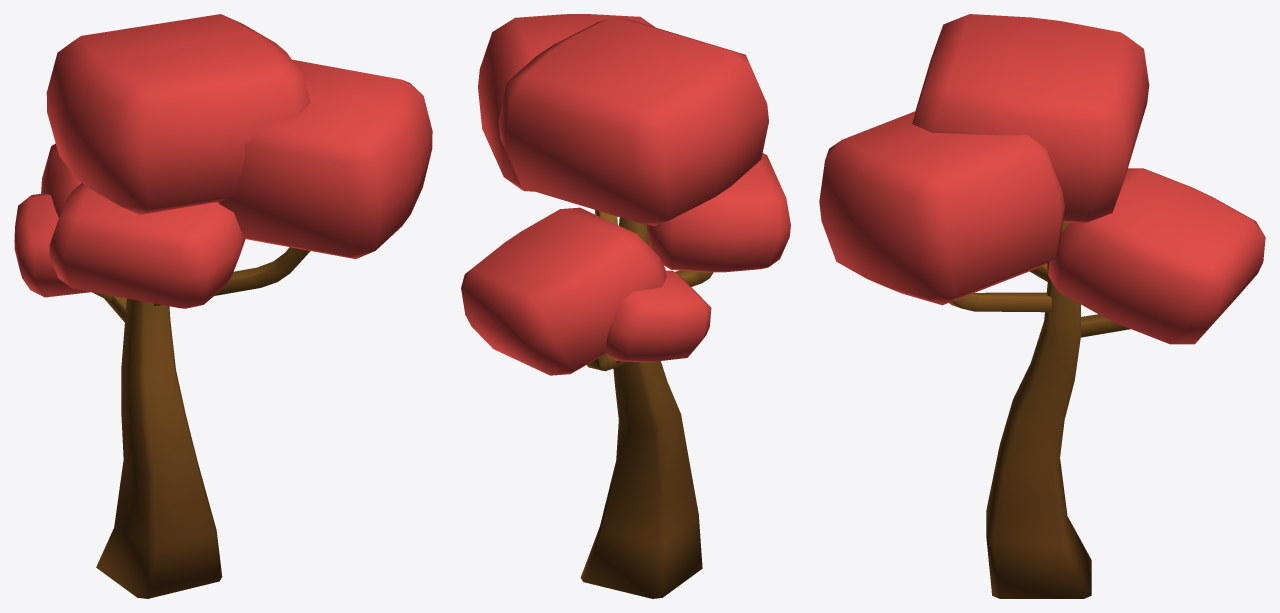
The model's file is Tree_1_2.glb.
The picture shows the model from 3 angles, left to right: view 1: azimuth 30°, elevation 25°; view 2: azimuth 150°, elevation 25°; view 3: azimuth 270°, elevation 25°; orthographic projection. The views are drawn at different scales.
Visible parts, largest first — view 1: Tree_1_2; view 2: Tree_1_2; view 3: Tree_1_2.
Part boxes in pixels (box(x1,y1,x2,y2)): Tree_1_2: box(14, 14, 432, 598); Tree_1_2: box(461, 14, 790, 598); Tree_1_2: box(819, 14, 1265, 598).
Bounding box in the file's own units: 2.51 × 3.71 × 2.8.
1 material, 1 textured.
